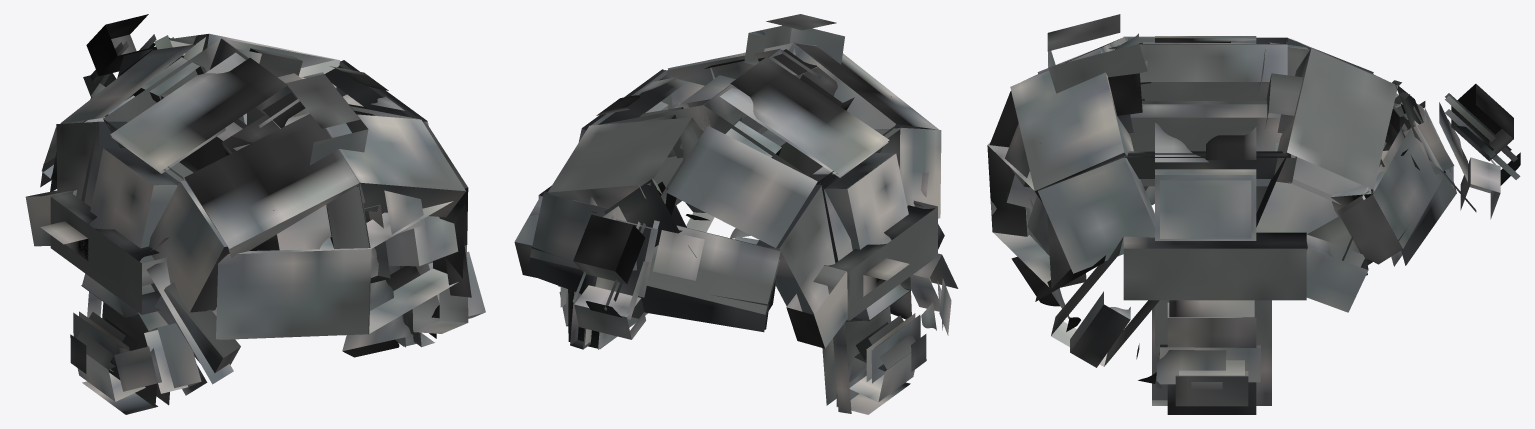
File: nato_h.obj
The picture shows the model from 3 angles, left to right: view 1: azimuth 30°, elevation 25°; view 2: azimuth 150°, elevation 25°; view 3: azimuth 270°, elevation 25°; orthographic projection. The views are drawn at different scales.
Visible parts, largest first — view 1: VOLGA2; view 2: VOLGA2; view 3: VOLGA2.
Part boxes in pixels (<box>): VOLGA2: <box>25,14,485,414</box>; VOLGA2: <box>514,14,958,414</box>; VOLGA2: <box>987,14,1520,414</box>.
Size of the model in its own units: 0.8438 by 0.6897 by 1.06.
